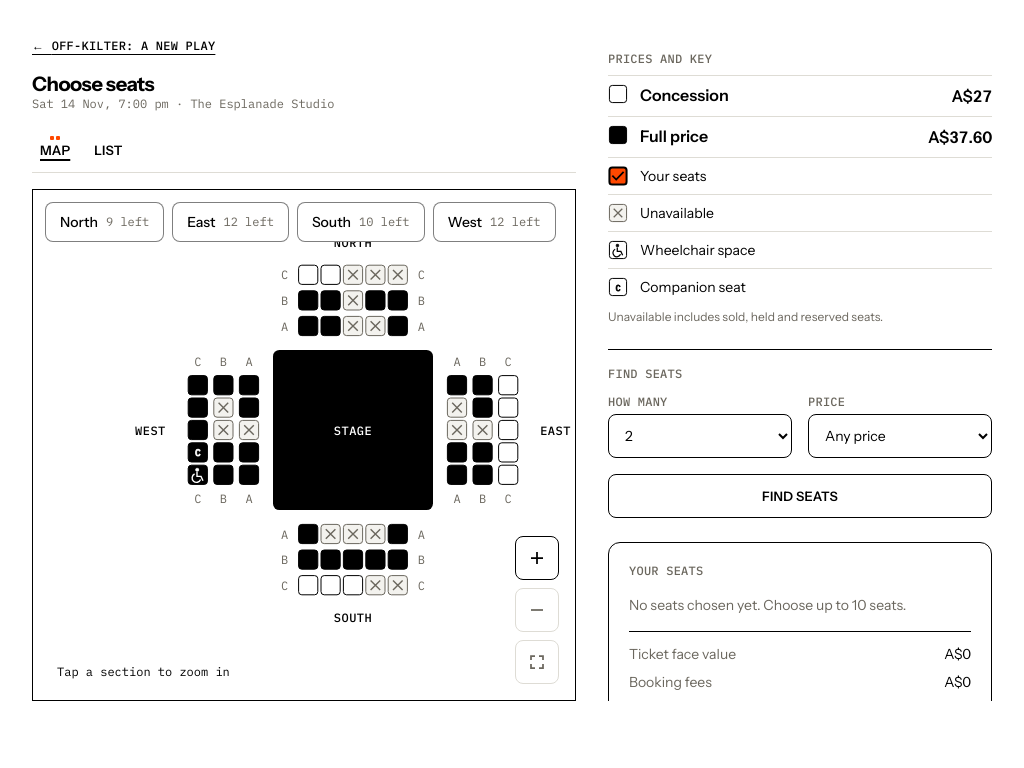
Test: seat page: summary (§5.10; ACCC all-inclusive prices) › lists each seat's all-inclusive price, then tickets, fees and the total
The image size is (1024, 768).
What coordinates should you click on to do the following:
click the tab "List"
I would click on:
 (108, 150)
Its box is [86, 128, 130, 172].
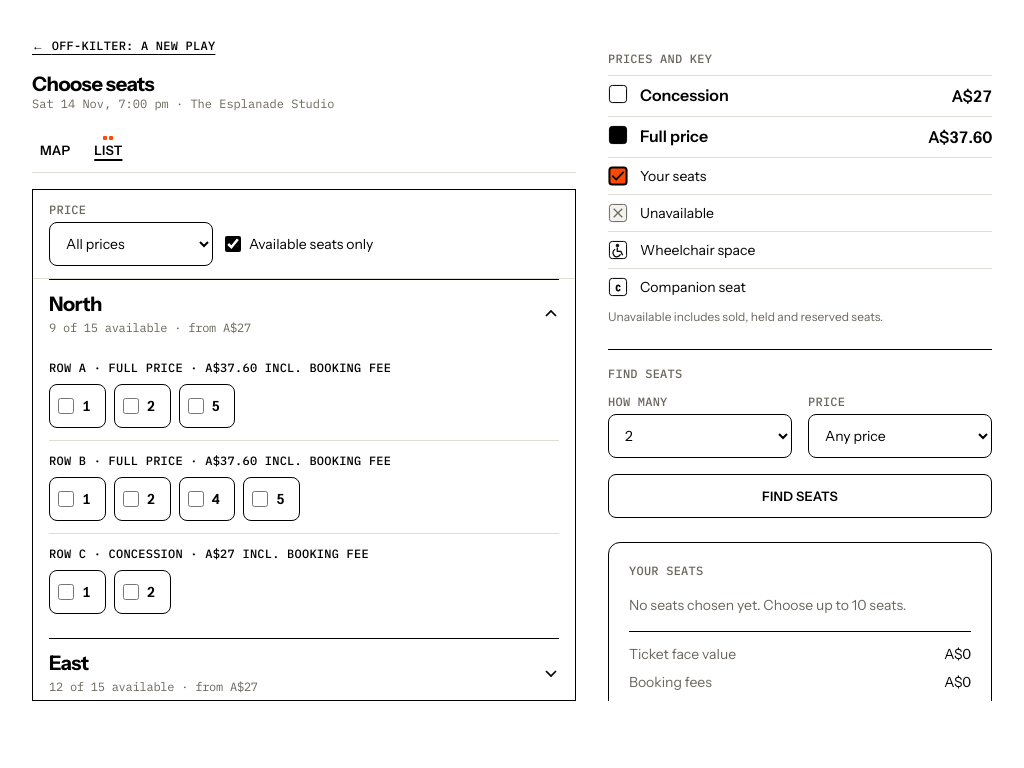
What coordinates should you click on to do the following:
click the button "East 12 of 15 available · from A$27"
I would click on:
 (69, 663)
Its box is [49, 639, 559, 707].
(page scrolled)
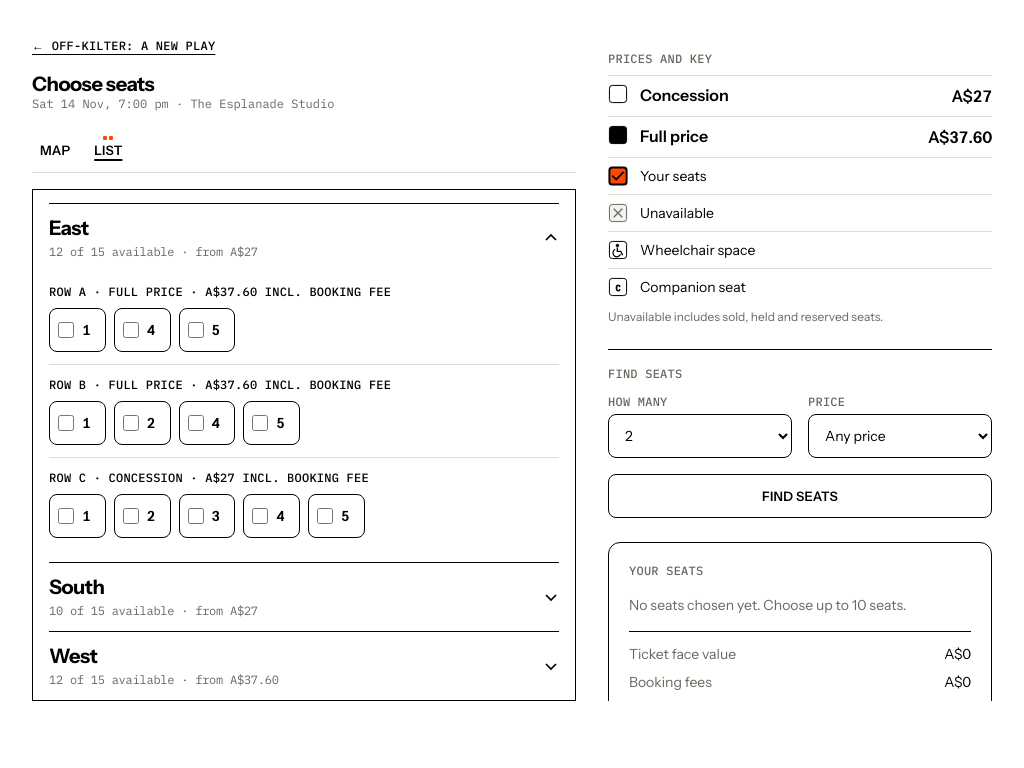
What coordinates should you click on to do the following:
click the button "South 10 of 15 available · from A$27"
I would click on:
 (77, 587)
Its box is [49, 563, 559, 631].
(page scrolled)
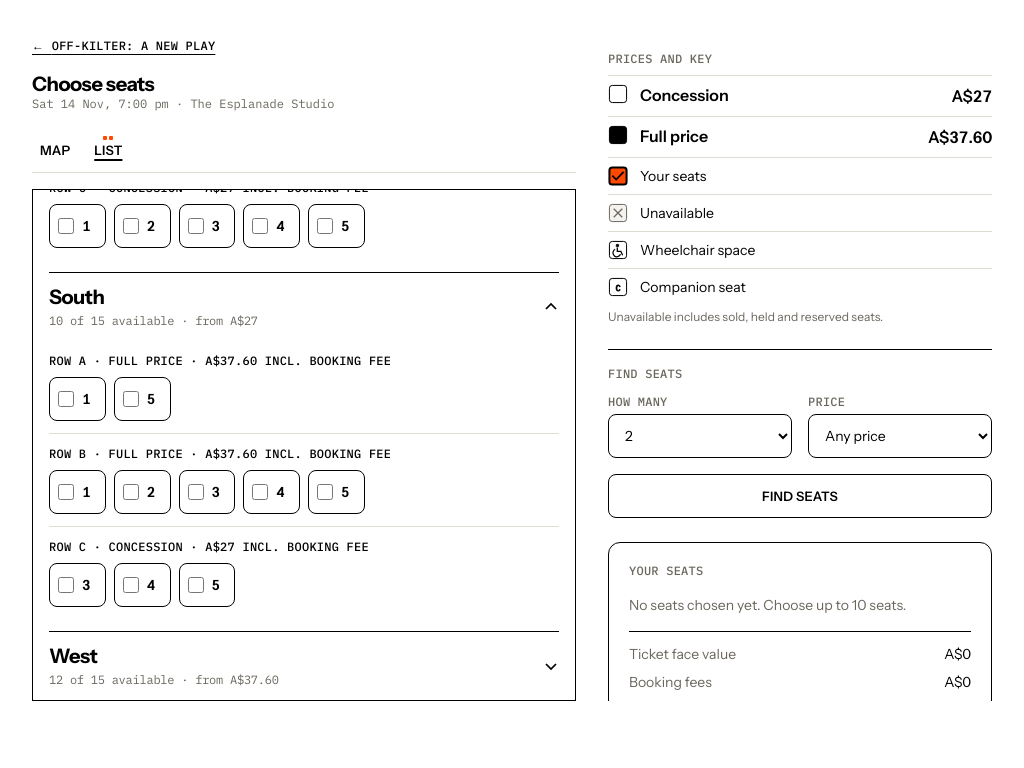
What coordinates should you click on to do the following:
click the button "West 12 of 15 available · from A$37.60"
I would click on:
 (73, 656)
Its box is [49, 632, 559, 700].
(page scrolled)
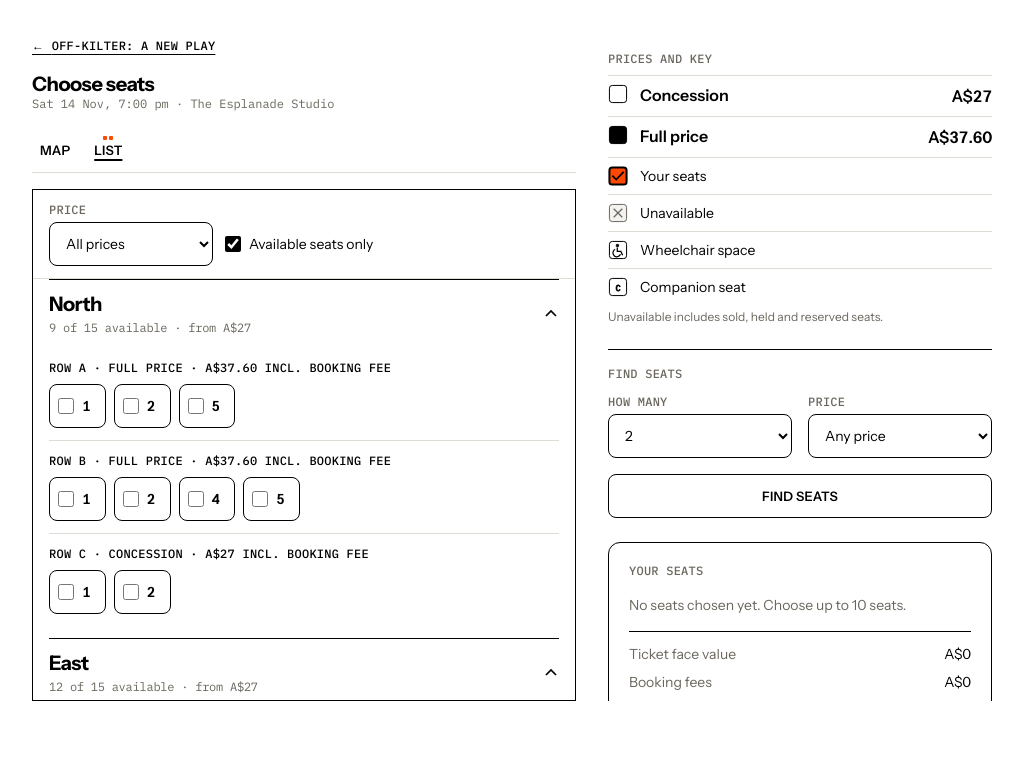
What coordinates should you click on to do the following:
click the checkbox named "Seat 1, "
I would click on:
 (66, 406)
Its box is [58, 398, 74, 414].
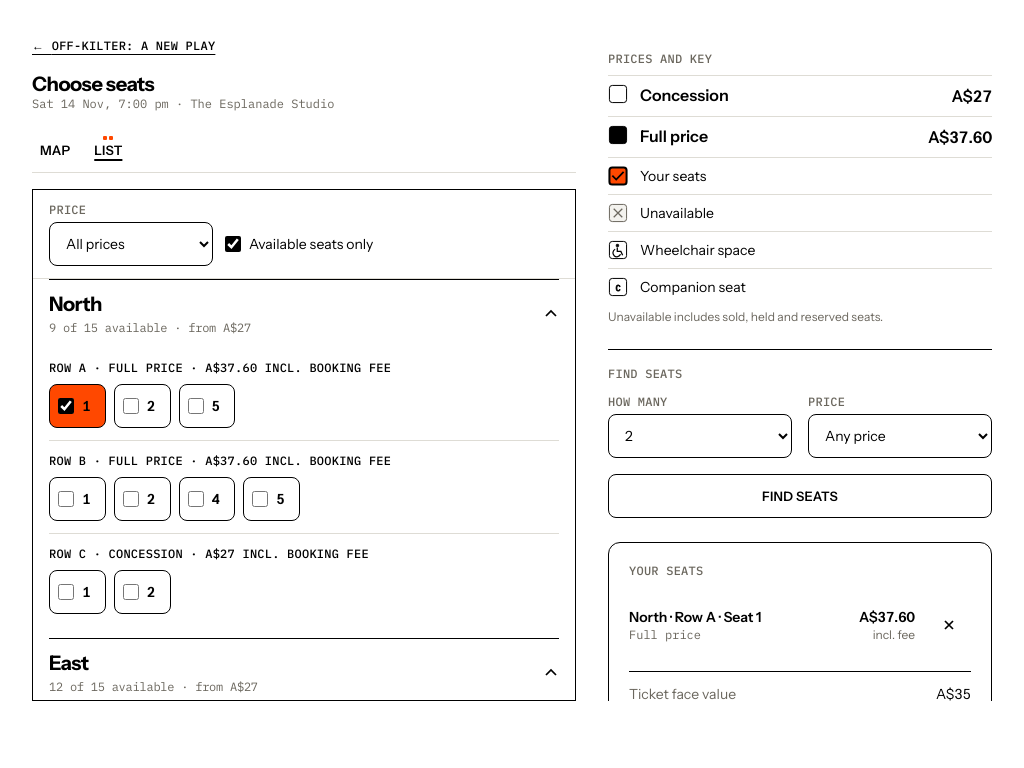
What coordinates should you click on to do the following:
click the checkbox named "Seat 1, "
I would click on:
 (66, 592)
Its box is [58, 584, 74, 600].
(page scrolled)
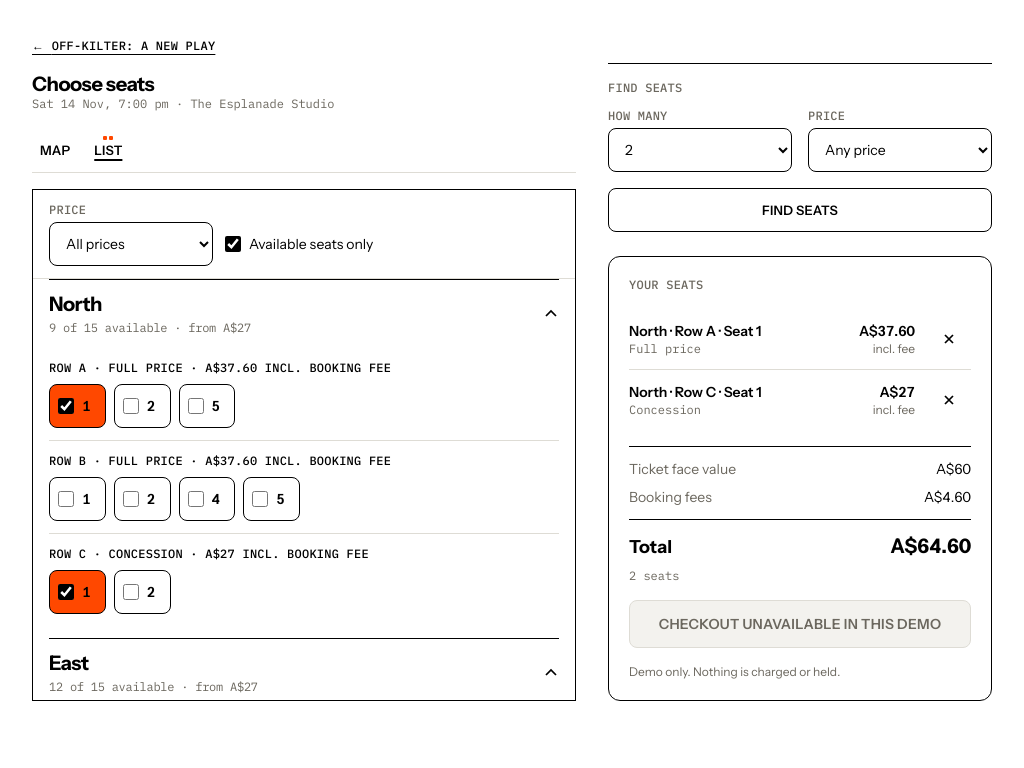
Result: the list item "North · Row A · Seat 1 Full price A$37.60 incl. fee" is shown at [629, 309, 971, 369]
Result: the text "incl. fee" below "North · Row A · Seat 1" is shown at [873, 341, 915, 356]
Result: the list item "North · Row C · Seat 1 Concession A$27 incl. fee" is shown at [629, 369, 971, 430]
